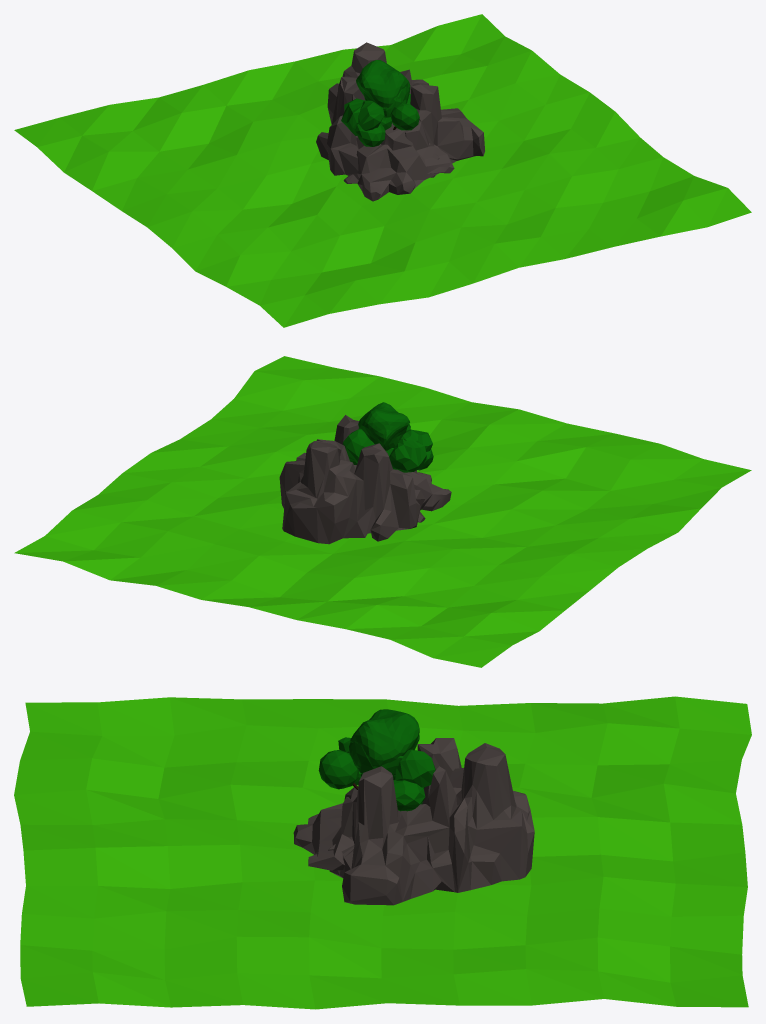
File: Models.FBX
The picture shows the model from 3 angles, top to bottom: view 1: azimuth 30°, elevation 25°; view 2: azimuth 150°, elevation 25°; view 3: azimuth 270°, elevation 25°; orthographic projection. The views are drawn at different scales.
Parts seen in each view (by area): view 1: Ground, Rock 3, Rock 1, Tree 3, Tree 2, Tree 1; view 2: Ground, Rock 3, Tree 3, Tree 1, Rock 1; view 3: Ground, Rock 3, Tree 3, Rock 1, Tree 1, Tree 2.
Boxes of the visible parts, x1,y1,x2,y2 form: Ground: [14, 14, 751, 327]; Rock 3: [316, 42, 484, 179]; Rock 1: [343, 123, 454, 201]; Tree 3: [355, 60, 419, 146]; Tree 2: [358, 86, 409, 130]; Tree 1: [341, 94, 406, 135]; Ground: [14, 356, 751, 667]; Rock 3: [279, 415, 424, 544]; Tree 3: [343, 402, 433, 470]; Tree 1: [343, 429, 426, 472]; Rock 1: [404, 470, 451, 522]; Ground: [14, 696, 751, 1009]; Rock 3: [328, 738, 534, 905]; Tree 3: [318, 709, 425, 811]; Rock 1: [293, 787, 357, 870]; Tree 1: [349, 742, 435, 787]; Tree 2: [338, 737, 424, 788].
Bounding box in the file's own units: 1409 × 316 × 1409.
